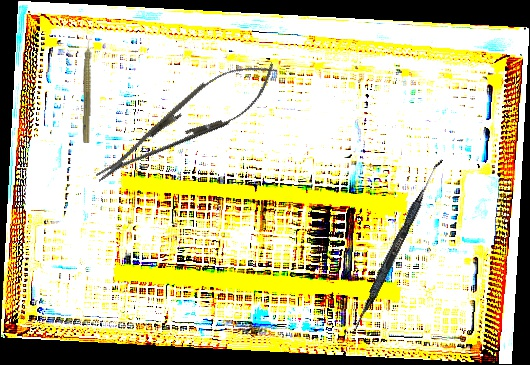Handpiece: (81, 31, 96, 144)
Needle Holder: (83, 45, 288, 199)
Spatula Surgical: (351, 155, 443, 336)
